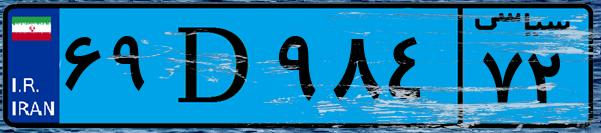2: (525, 38, 570, 115)
4: (385, 28, 445, 110)
6: (57, 26, 110, 100)
7: (475, 38, 525, 113)
8: (330, 28, 385, 110)
9: (270, 28, 330, 110), (110, 28, 158, 98)
D: (158, 12, 270, 120)
